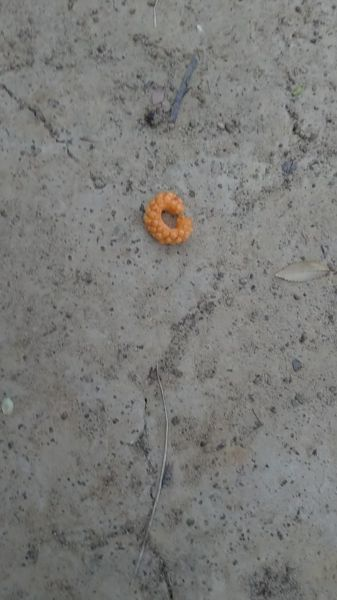eggs: (137, 178, 197, 254)
